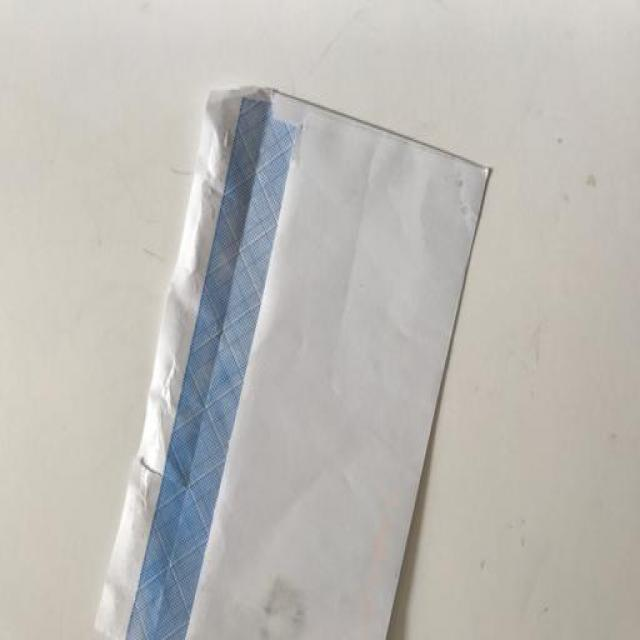paper: (84, 72, 503, 640)
